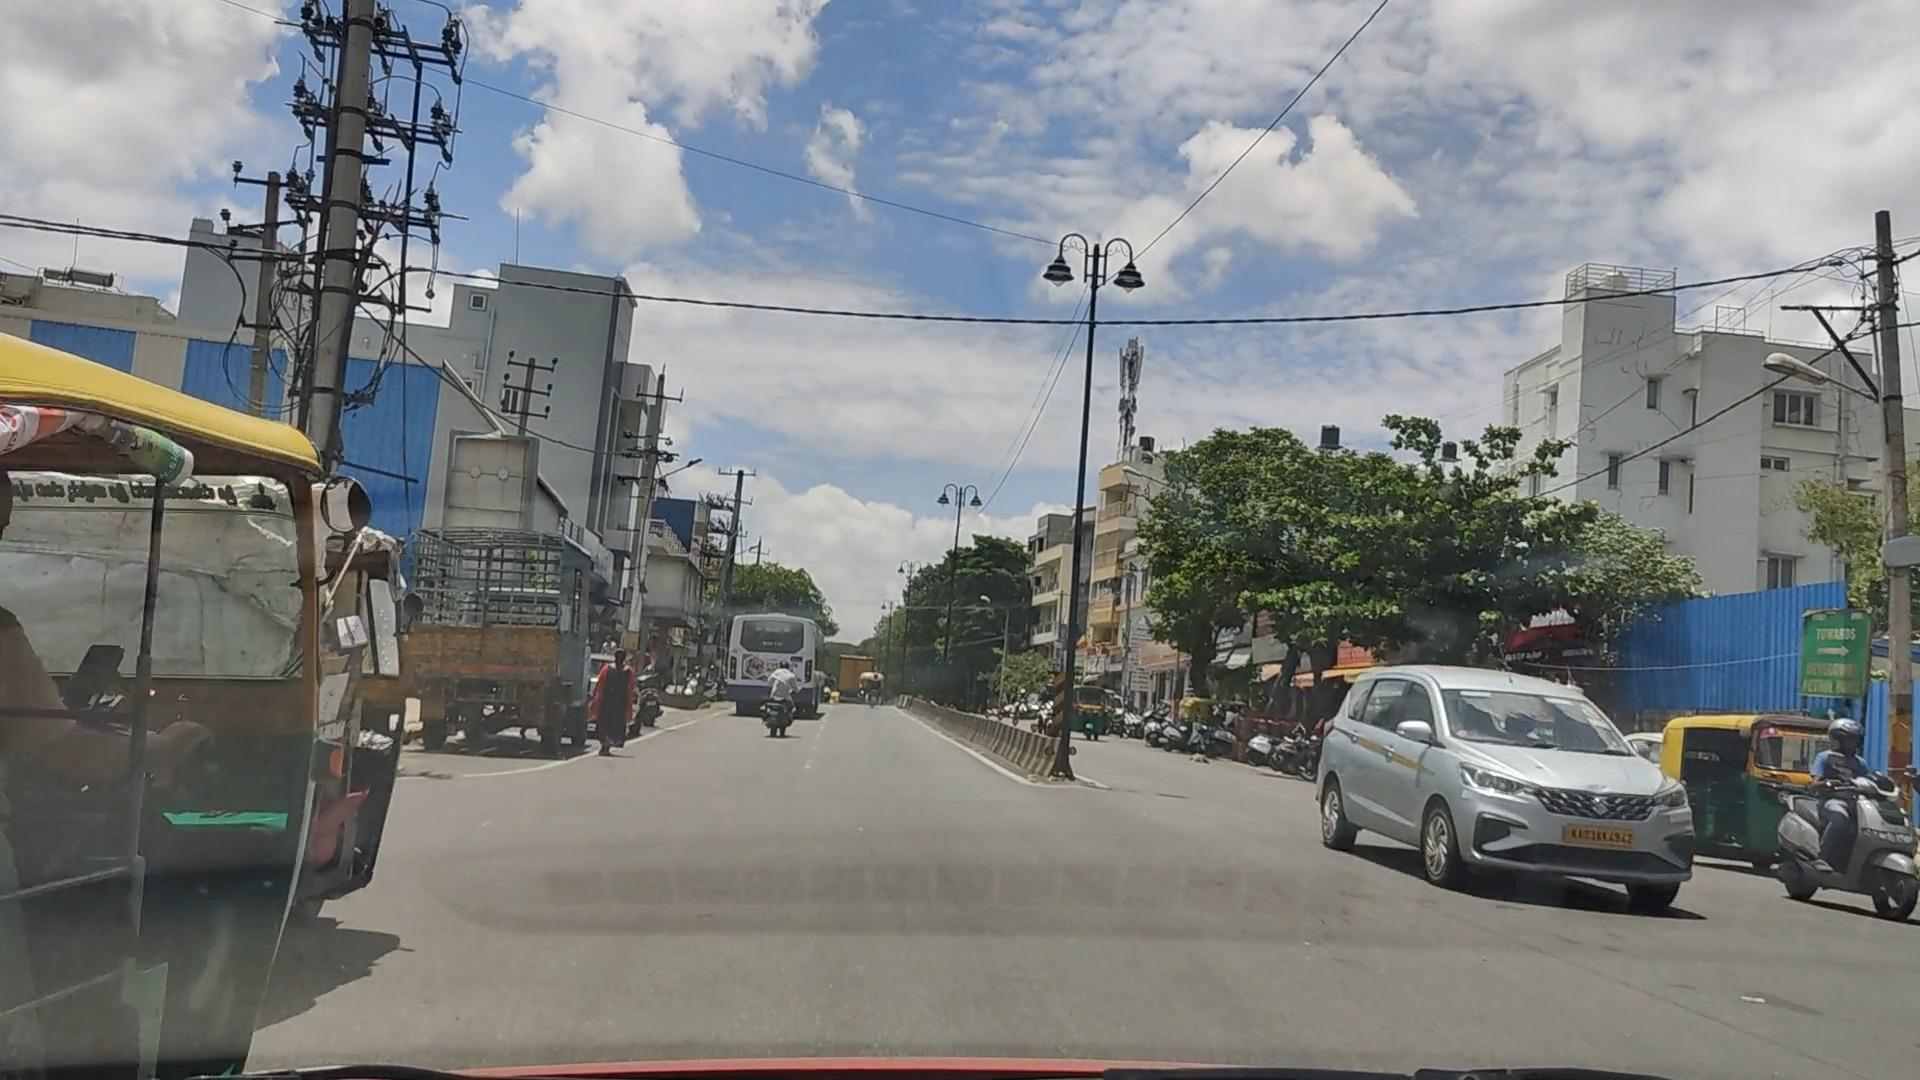LMV: (11, 335, 331, 1080), (1333, 666, 1685, 920)
